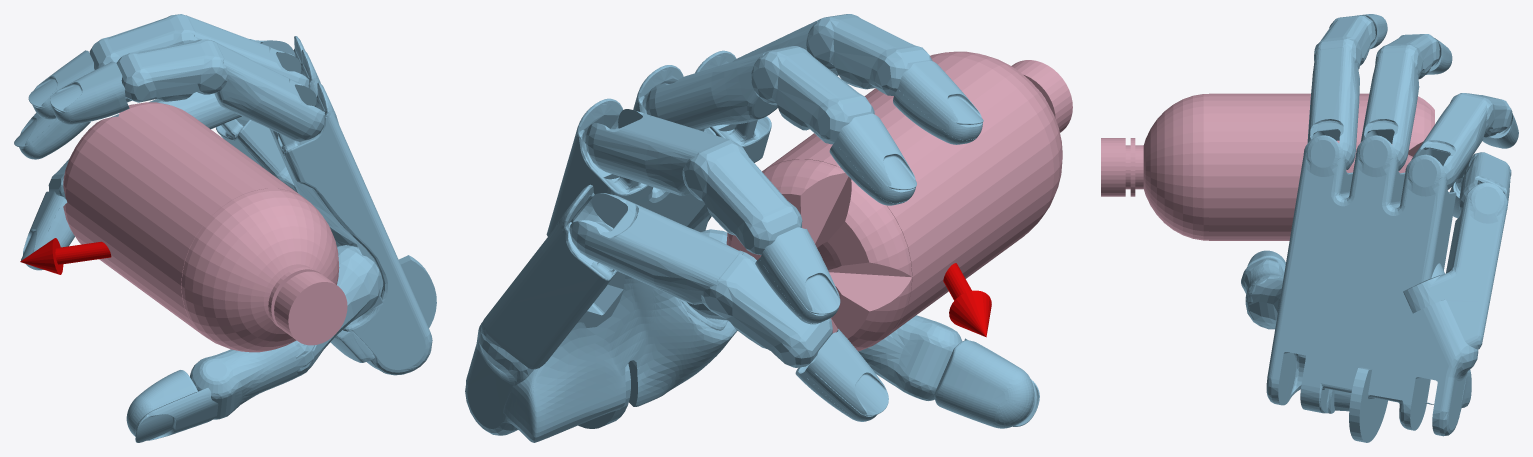
3 views of the same model, side by side, from view 1: azimuth 30°, elevation 25°; view 2: azimuth 150°, elevation 25°; view 3: azimuth 270°, elevation 25° (orthographic). The views are drawn at different scales.
Parts seen in each view (by area): view 1: world, water_bottle.stl; view 2: world, water_bottle.stl; view 3: world, water_bottle.stl.
Boxes of the visible parts, left/top/right/bottom form: world: left=14, top=14, right=436, bottom=442; water_bottle.stl: left=63, top=102, right=347, bottom=352; world: left=465, top=14, right=1039, bottom=442; water_bottle.stl: left=726, top=51, right=1072, bottom=351; world: left=1241, top=14, right=1518, bottom=442; water_bottle.stl: left=1101, top=93, right=1434, bottom=240.
Bounding box in the file's own units: 0.1628 × 0.144 × 0.1708.
